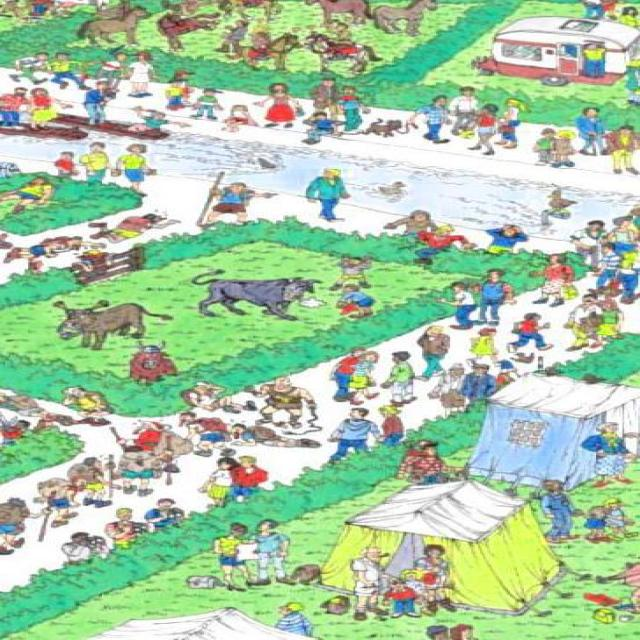waldo: (416, 440, 439, 456)
